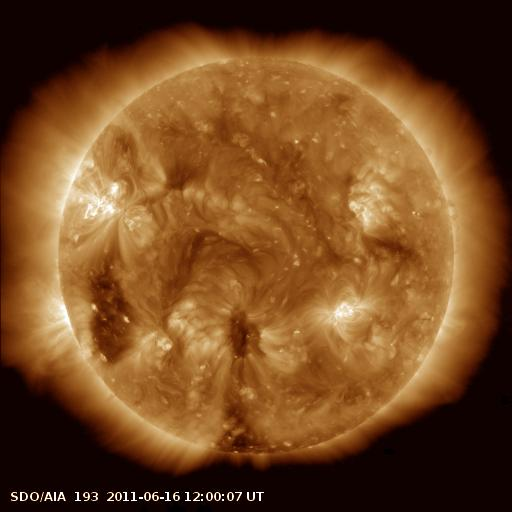coronal_hole: (91, 266, 147, 364), (211, 413, 275, 457)
